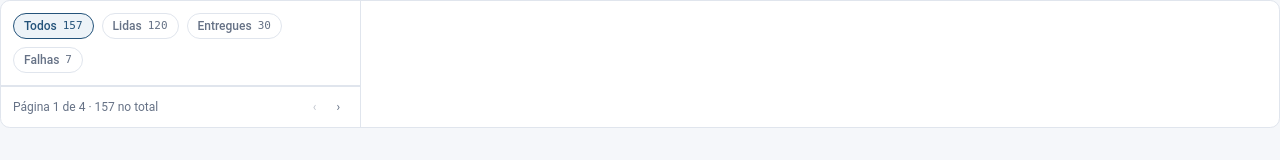
Test: EventsExplorer page navigation › advances the page and updates prev/next enablement
Step 1. Click the button "›" → (338, 107), box x1=328 y1=95 x2=348 y2=119
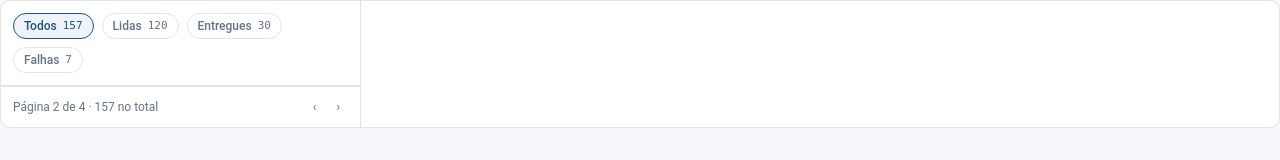
Expected: the button "‹" is enabled, x1=305 y1=95 x2=324 y2=119
Expected: the text "Página 2 de 4 · 157 no total" is shown, x1=13 y1=99 x2=158 y2=115
